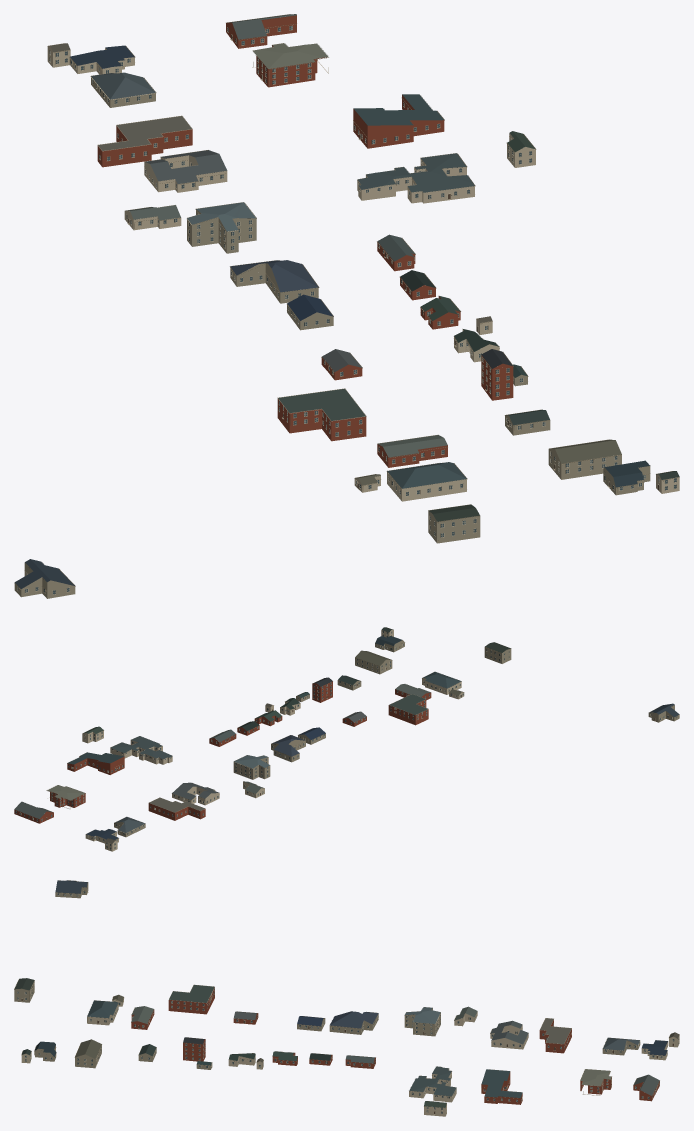
3 views of the same model, one above another, from view 1: azimuth 30°, elevation 25°; view 2: azimuth 150°, elevation 25°; view 3: azimuth 270°, elevation 25° (orthographic). The views are drawn at different scales.
Visible parts, largest first — view 1: -1_1_451772521_7, -1_1_611311717_45, -1_1_611311713_41; view 2: -1_1_451772521_7, -1_1_611311717_45, -1_1_611311713_41; view 3: -1_1_451772521_7, -1_1_611311717_45, -1_1_611311713_41.
Part boxes in pixels (x1,y1,x2,y2): -1_1_451772521_7: [14, 14, 679, 598]; -1_1_611311717_45: [97, 15, 513, 467]; -1_1_611311713_41: [47, 46, 679, 501]; -1_1_451772521_7: [14, 627, 679, 849]; -1_1_611311717_45: [14, 681, 431, 823]; -1_1_611311713_41: [82, 630, 464, 851]; -1_1_451772521_7: [14, 880, 679, 1114]; -1_1_611311717_45: [131, 987, 659, 1104]; -1_1_611311713_41: [21, 999, 679, 1116].
Size of the model in its own units: 385 by 22.94 by 471.
